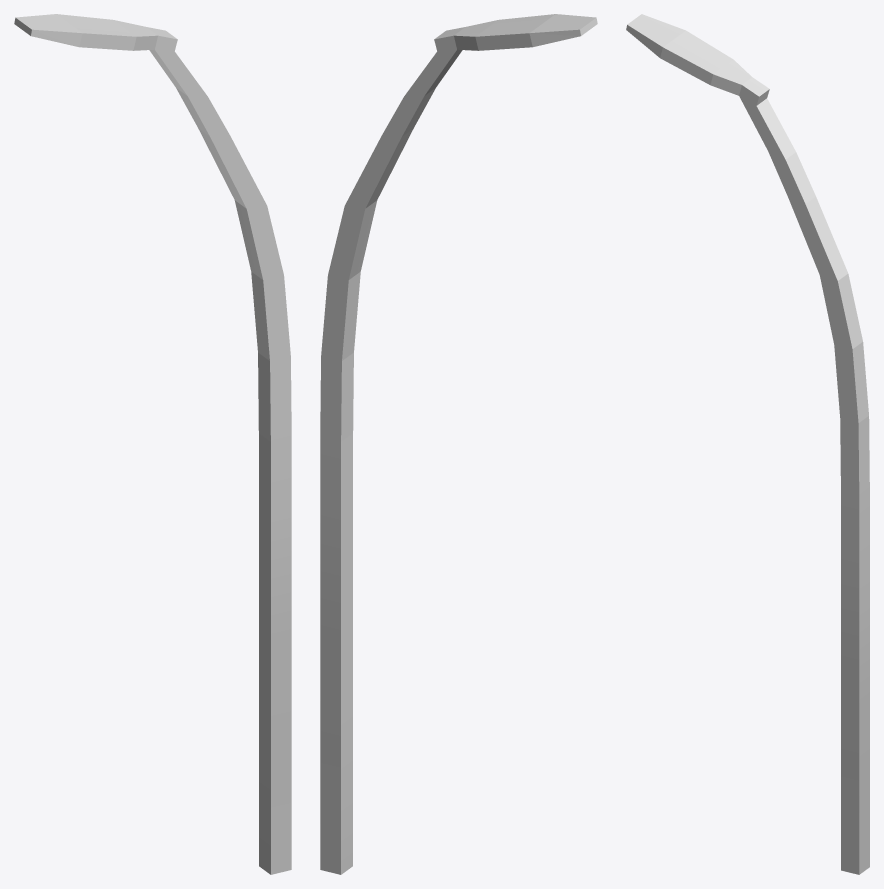
The model's file is Lighter.fbx.
3 renders of one model, left to right at view 1: azimuth 30°, elevation 25°; view 2: azimuth 150°, elevation 25°; view 3: azimuth 330°, elevation 25°, orthographic. The views are drawn at different scales.
Visible parts, largest first — view 1: Light_4_2; view 2: Light_4_2; view 3: Light_4_2.
Boxes of the visible parts, x1,y1,x2,y2 form: Light_4_2: [14, 14, 291, 874]; Light_4_2: [320, 14, 597, 874]; Light_4_2: [626, 14, 869, 874].
Bounding box in the file's own units: 1009 × 3319 × 174.
Materials: 1 (1 with a texture image).
